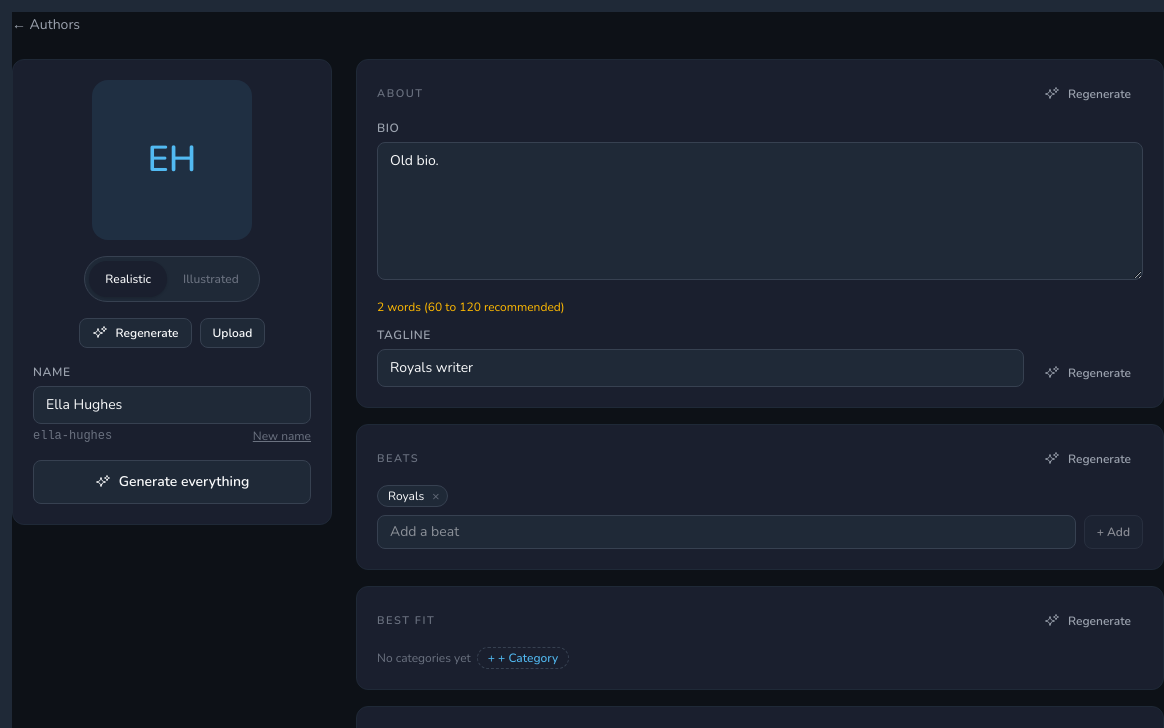
Scenario: AuthorProfileEditor › a failed portrait shows its error with Retry; other sections are unaffected
Click the button with aria-label "Regenerate portrait" at coordinates (135, 333), box x1=79 y1=318 x2=192 y2=348
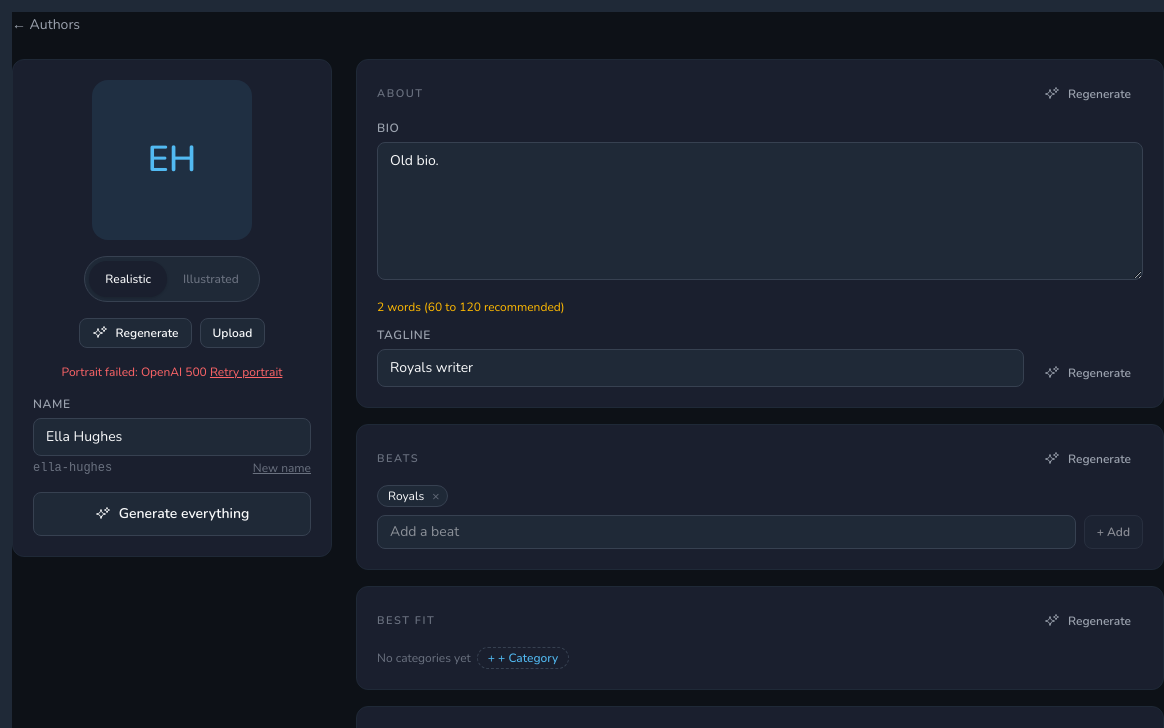
Expected: the text box showing "Old bio." is shown, x1=377 y1=142 x2=1143 y2=280
Expected: the text "Portrait failed: OpenAI 500" is shown, x1=62 y1=364 x2=207 y2=380
Expected: the button "Retry portrait" is shown, x1=210 y1=364 x2=282 y2=380
